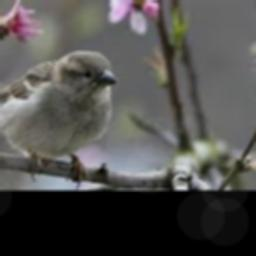Sparrow: (0, 50, 119, 187)
